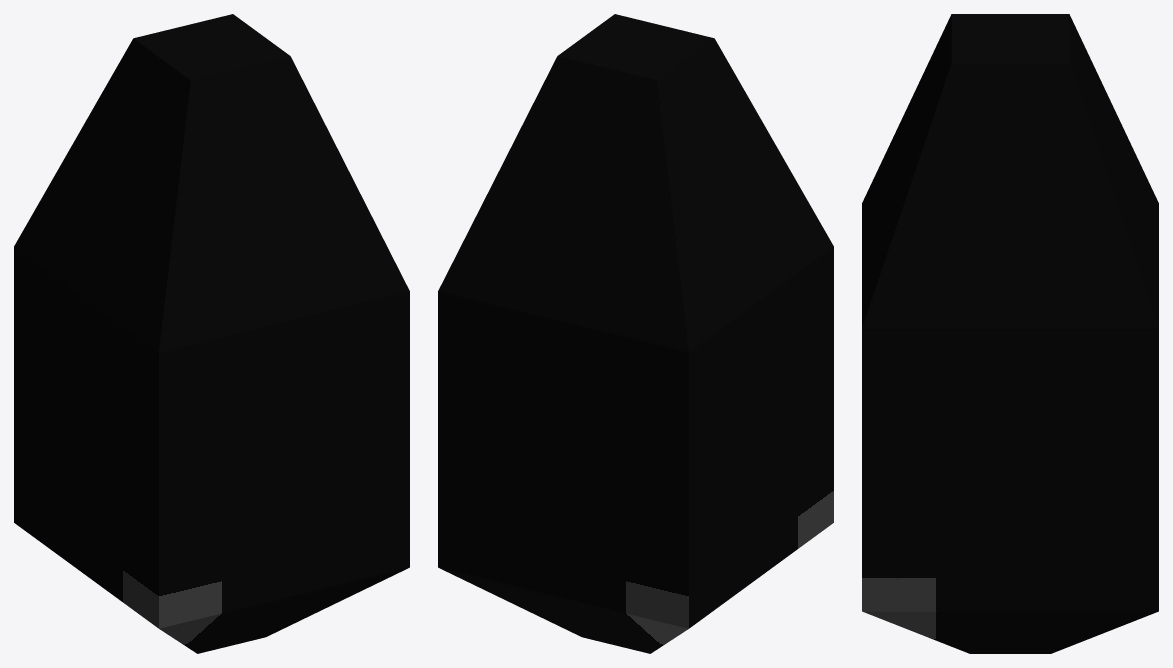
The model's file is crystal_relay_stubbed.obj.
The picture shows the model from 3 angles, left to right: view 1: azimuth 30°, elevation 25°; view 2: azimuth 150°, elevation 25°; view 3: azimuth 270°, elevation 25°; orthographic projection. The views are drawn at different scales.
Parts seen in each view (by area): view 1: Cube.001_Cube.004; view 2: Cube.001_Cube.004; view 3: Cube.001_Cube.004.
Boxes of the visible parts, box(x1,y1,x2,y2) form: Cube.001_Cube.004: box(14, 14, 409, 653); Cube.001_Cube.004: box(438, 14, 833, 653); Cube.001_Cube.004: box(862, 14, 1158, 653).
Bounding box in the file's own units: 0.1671 × 0.3716 × 0.1671.
